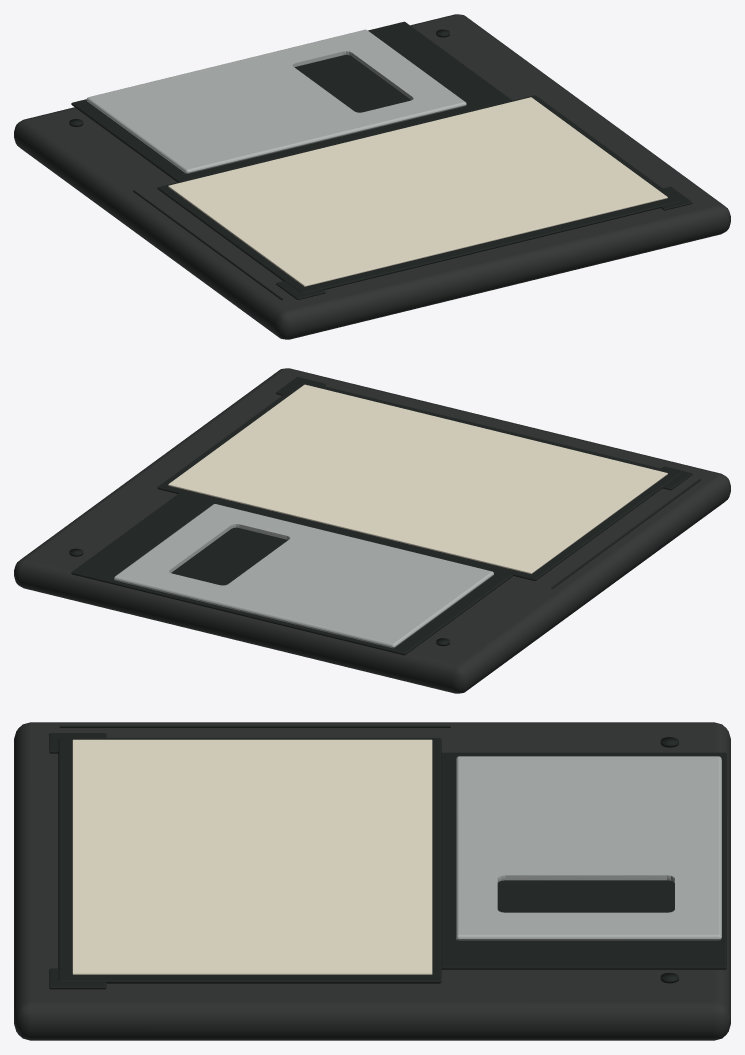
Rendered from disk.glb.
3 renders of one model, top to bottom at view 1: azimuth 30°, elevation 25°; view 2: azimuth 150°, elevation 25°; view 3: azimuth 270°, elevation 25°, orthographic. The views are drawn at different scales.
Visible parts, largest first — view 1: disk / Uncoated warm paper, disk / Fine textured charcoal ABS, disk / Brushed nickel, disk / ABS recessed edge; view 2: disk / Uncoated warm paper, disk / Fine textured charcoal ABS, disk / Brushed nickel, disk / ABS recessed edge; view 3: disk / Uncoated warm paper, disk / Fine textured charcoal ABS, disk / Brushed nickel, disk / ABS recessed edge.
Boxes of the visible parts, left/top/right/bottom form: disk / Uncoated warm paper: left=168, top=97, right=667, bottom=286; disk / Fine textured charcoal ABS: left=14, top=14, right=730, bottom=339; disk / Brushed nickel: left=86, top=29, right=466, bottom=173; disk / ABS recessed edge: left=69, top=21, right=692, bottom=300; disk / Uncoated warm paper: left=168, top=384, right=667, bottom=573; disk / Fine textured charcoal ABS: left=14, top=368, right=730, bottom=693; disk / Brushed nickel: left=114, top=504, right=493, bottom=648; disk / ABS recessed edge: left=69, top=377, right=700, bottom=655; disk / Uncoated warm paper: left=72, top=739, right=432, bottom=974; disk / Fine textured charcoal ABS: left=14, top=722, right=730, bottom=1040; disk / Brushed nickel: left=456, top=756, right=721, bottom=940; disk / ABS recessed edge: left=49, top=725, right=726, bottom=989.
Bounding box in the file's own units: 2.65 × 0.195 × 2.75.
